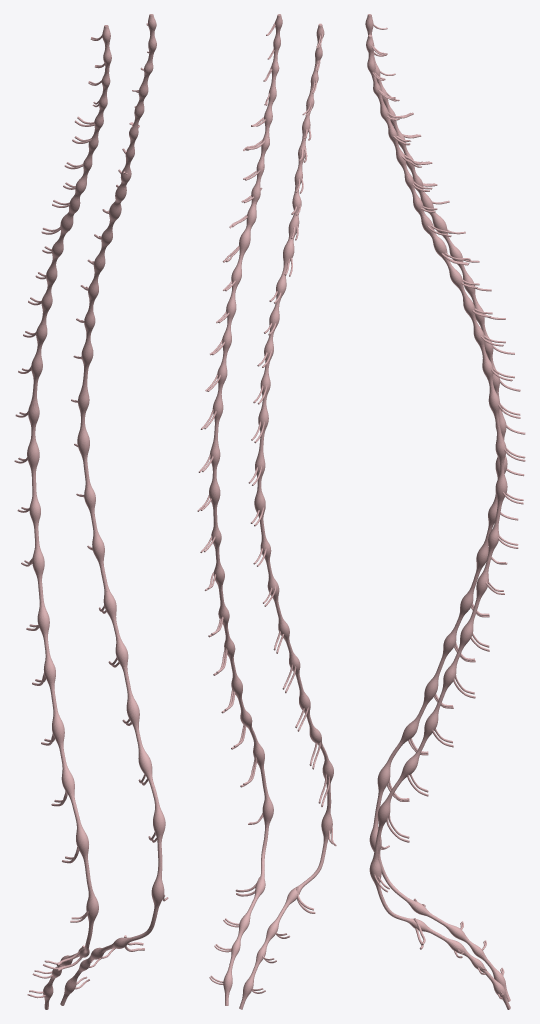
File: SpinalNerves4.glb
3 renders of one model, left to right at view 1: azimuth 30°, elevation 25°; view 2: azimuth 150°, elevation 25°; view 3: azimuth 270°, elevation 25°, orthographic. The views are drawn at different scales.
Parts seen in each view (by area): view 1: Sympathetic Trunk 1; view 2: Sympathetic Trunk 1; view 3: Sympathetic Trunk 1.
Part boxes in pixels (x1=…): Sympathetic Trunk 1: x1=14, y1=14, x2=168, y2=1009; Sympathetic Trunk 1: x1=197, y1=14, x2=336, y2=1009; Sympathetic Trunk 1: x1=365, y1=14, x2=525, y2=1009.
Size of the model in its own units: 64.46 by 654 by 96.65.
